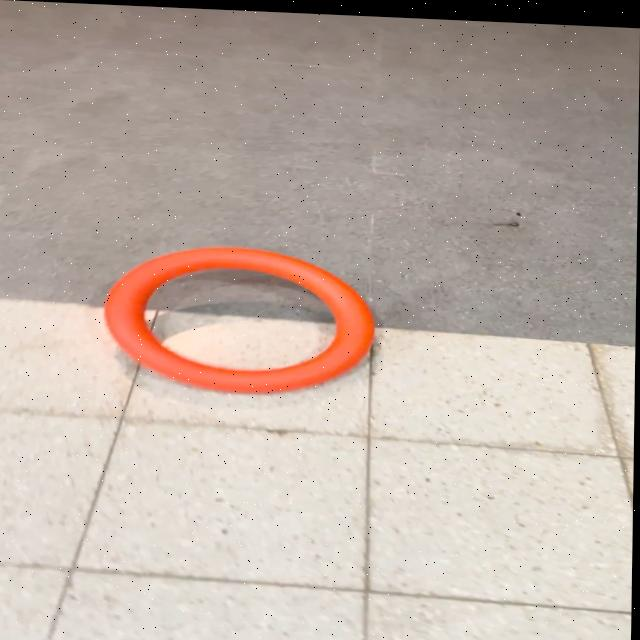note: (102, 238, 380, 398)
